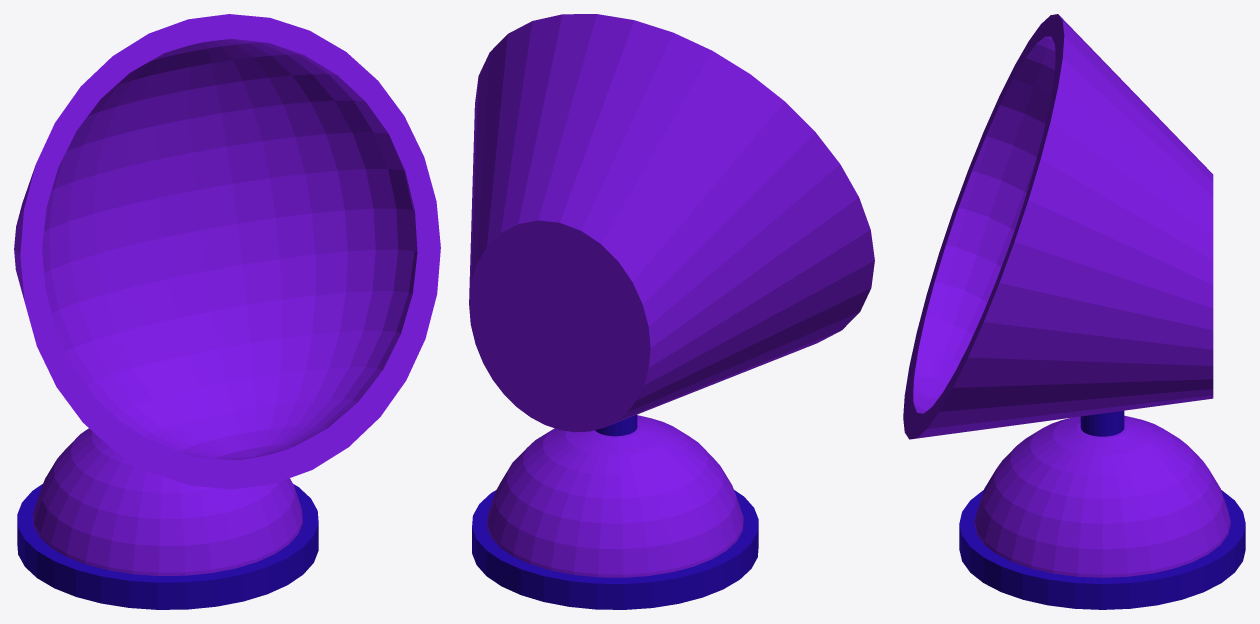
The model's file is relay.fbx.
3 renders of one model, left to right at view 1: azimuth 30°, elevation 25°; view 2: azimuth 150°, elevation 25°; view 3: azimuth 270°, elevation 25°, orthographic. The views are drawn at different scales.
Visible parts, largest first — view 1: Cone, Sphere, Cylinder; view 2: Cone, Sphere, Cylinder; view 3: Cone, Sphere, Cylinder, Cylinder.001.
Boxes of the visible parts, left/top/right/bottom form: Cone: left=14, top=14, right=440, bottom=489; Sphere: left=33, top=428, right=302, bottom=575; Cylinder: left=17, top=484, right=318, bottom=609; Cone: left=469, top=14, right=874, bottom=432; Sphere: left=487, top=415, right=743, bottom=577; Cylinder: left=472, top=490, right=758, bottom=609; Cone: left=903, top=14, right=1213, bottom=439; Sphere: left=974, top=415, right=1230, bottom=577; Cylinder: left=959, top=490, right=1245, bottom=609; Cylinder.001: left=1080, top=410, right=1124, bottom=436.
Size of the model in its own units: 787 by 988 by 598.
